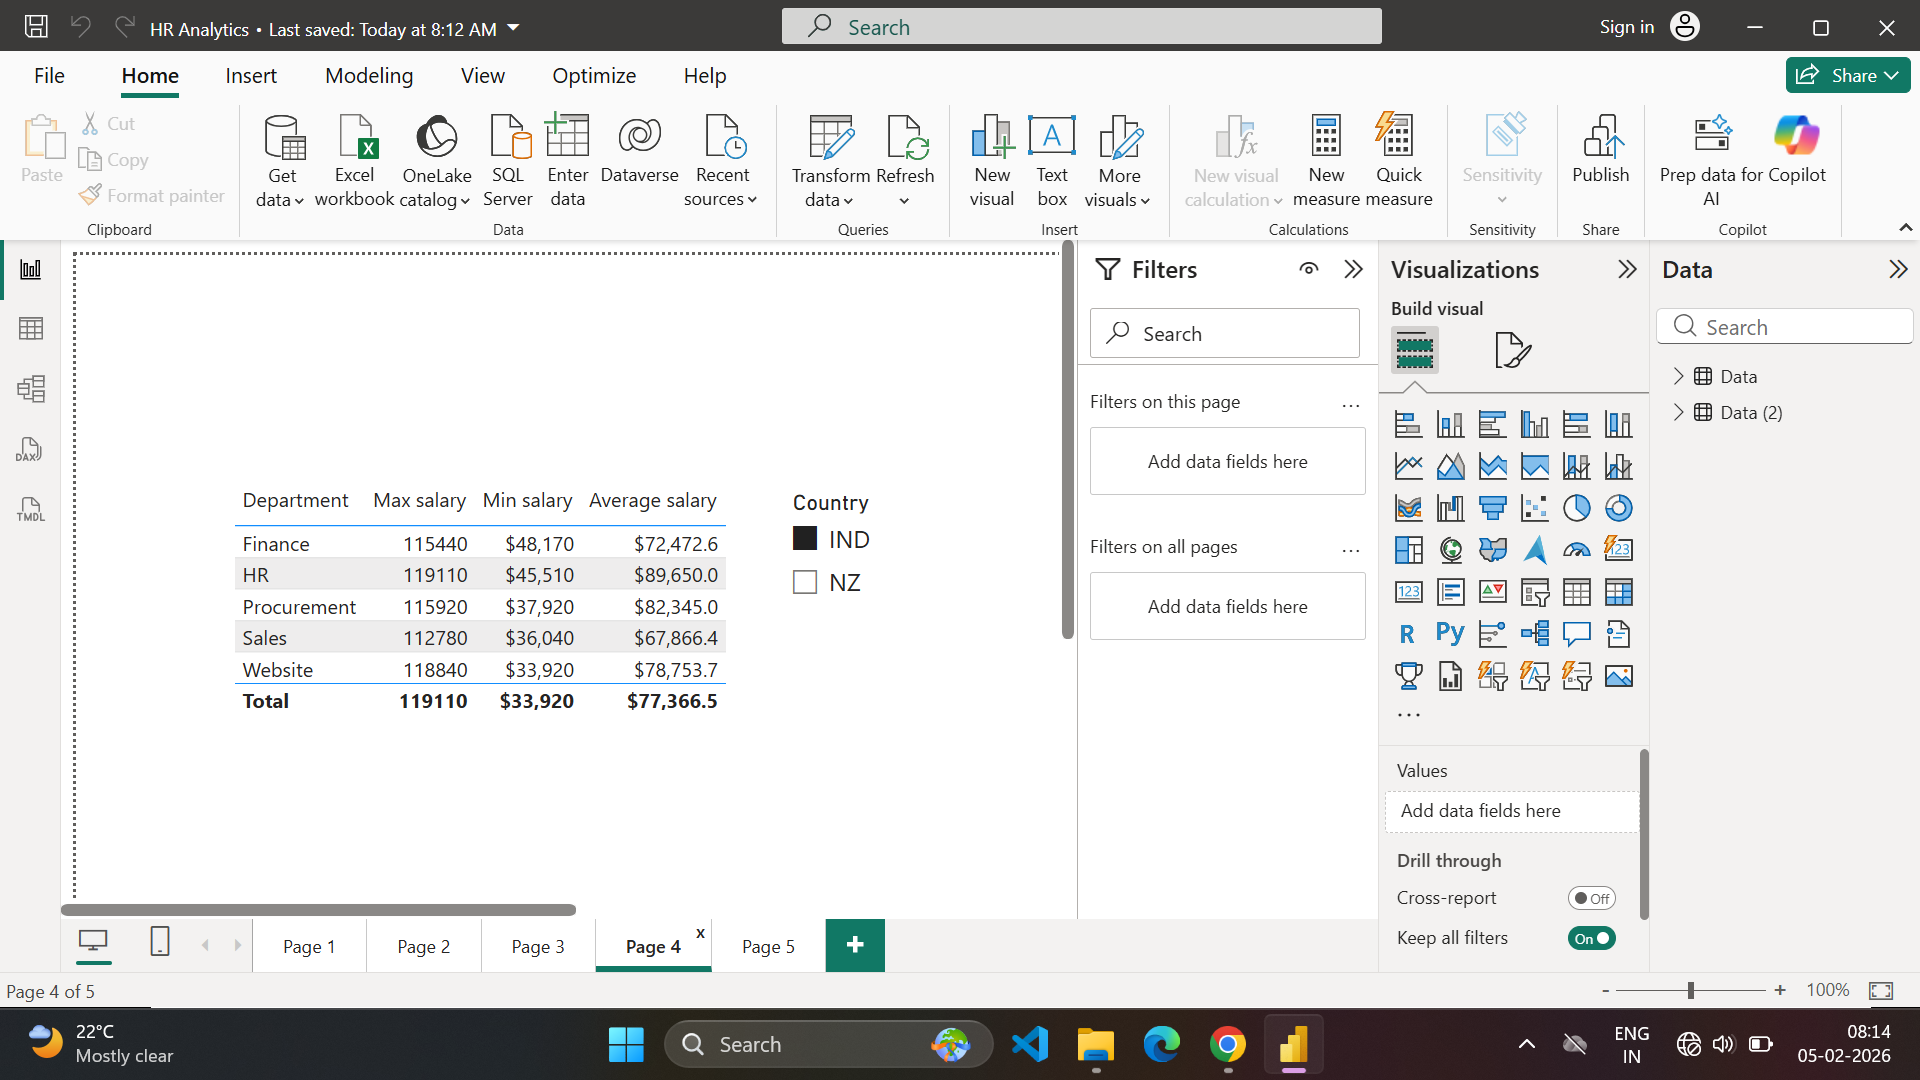

Layout of this report page (visuals, bound fields, positions):
{"tool":"powerbi","page":{"name":"Page 4","canvas":[1280,720],"ordinal":3},"visuals":[{"type":"tableEx","fields":{"Values":["Data (2).Department","Data (2).Max salary","Data (2).Min salary","Data (2).Average salary"]},"box":[100,146.7,365,171.7],"z":0},{"type":"slicer","fields":{"Values":["Data (2).Country"]},"box":[465.5,150.9,276.4,162.7],"z":1000}]}

Visuals, with their boxes on the page's 1280x720 design canvas (x1, y1, x2, y2). These are canvas units, not pixel positions in the 1920x1080 screenshot, which may show the page scaled, cropped or inside an application window:
tableEx - Data (2).Department x Data (2).Max salary: left=100, top=147, right=465, bottom=318
slicer - Data (2).Country: left=466, top=151, right=742, bottom=314
